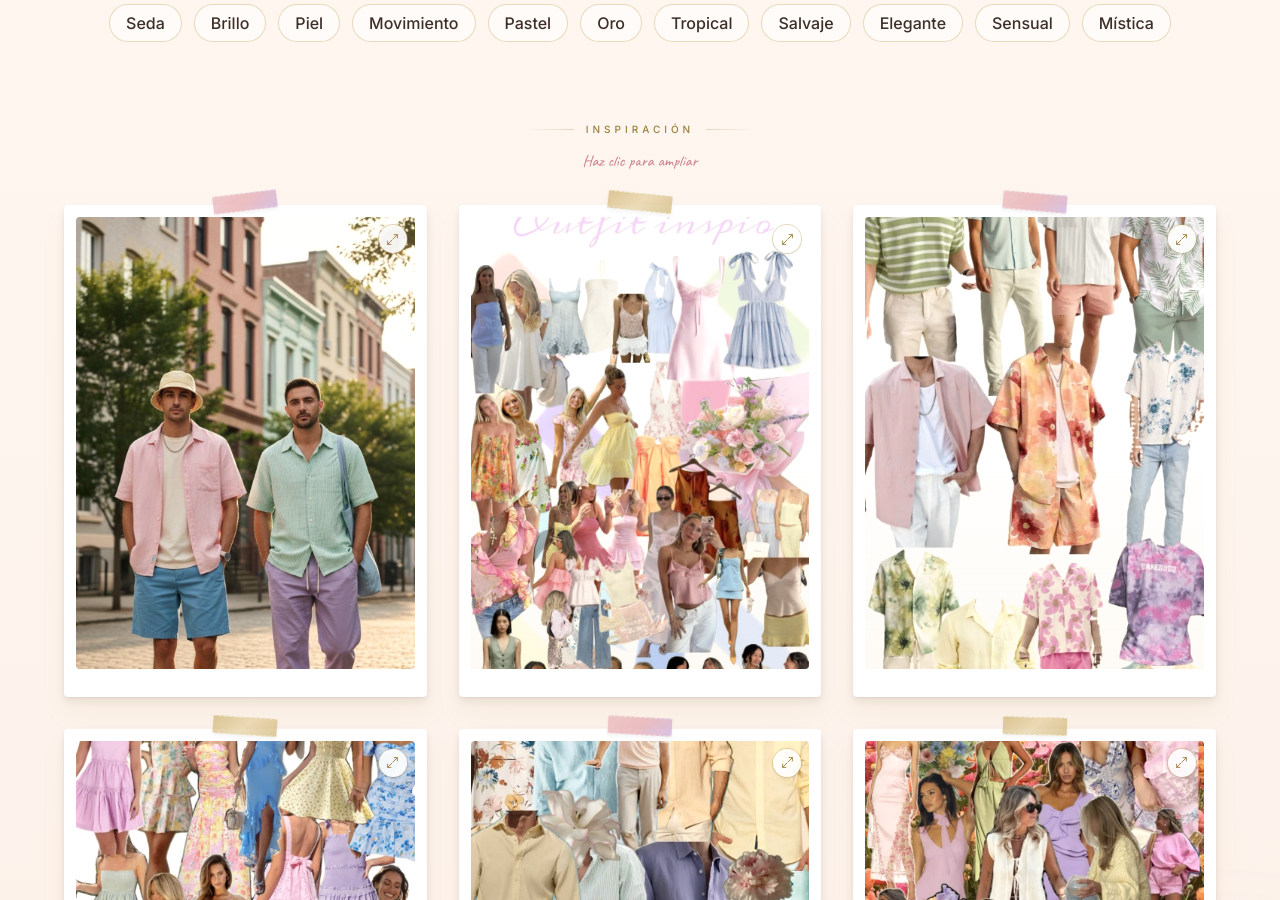
Test: Chapter6SummerPastel › navigates to the next look when the next arrow is clicked
This screenshot has width=1280, height=900.
(page scrolled)
Click the button named "open look 1 in full size": x=245, y=451 [64,205,427,697]
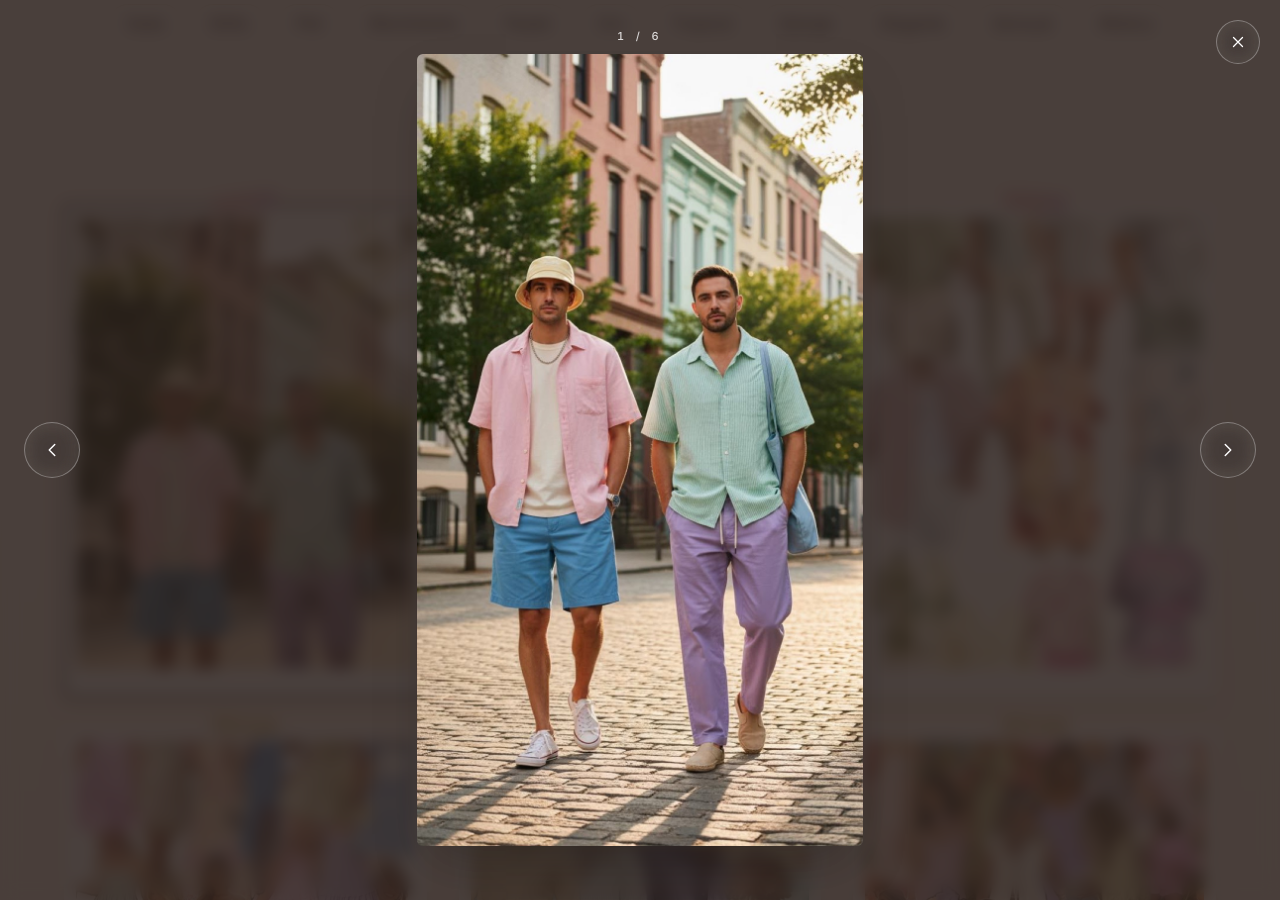
Result: the picture with alt text "Look 1 fullscreen" is shown at [417,54,863,846]
Click the button named "next look": x=1228, y=450 [1200,422,1256,478]
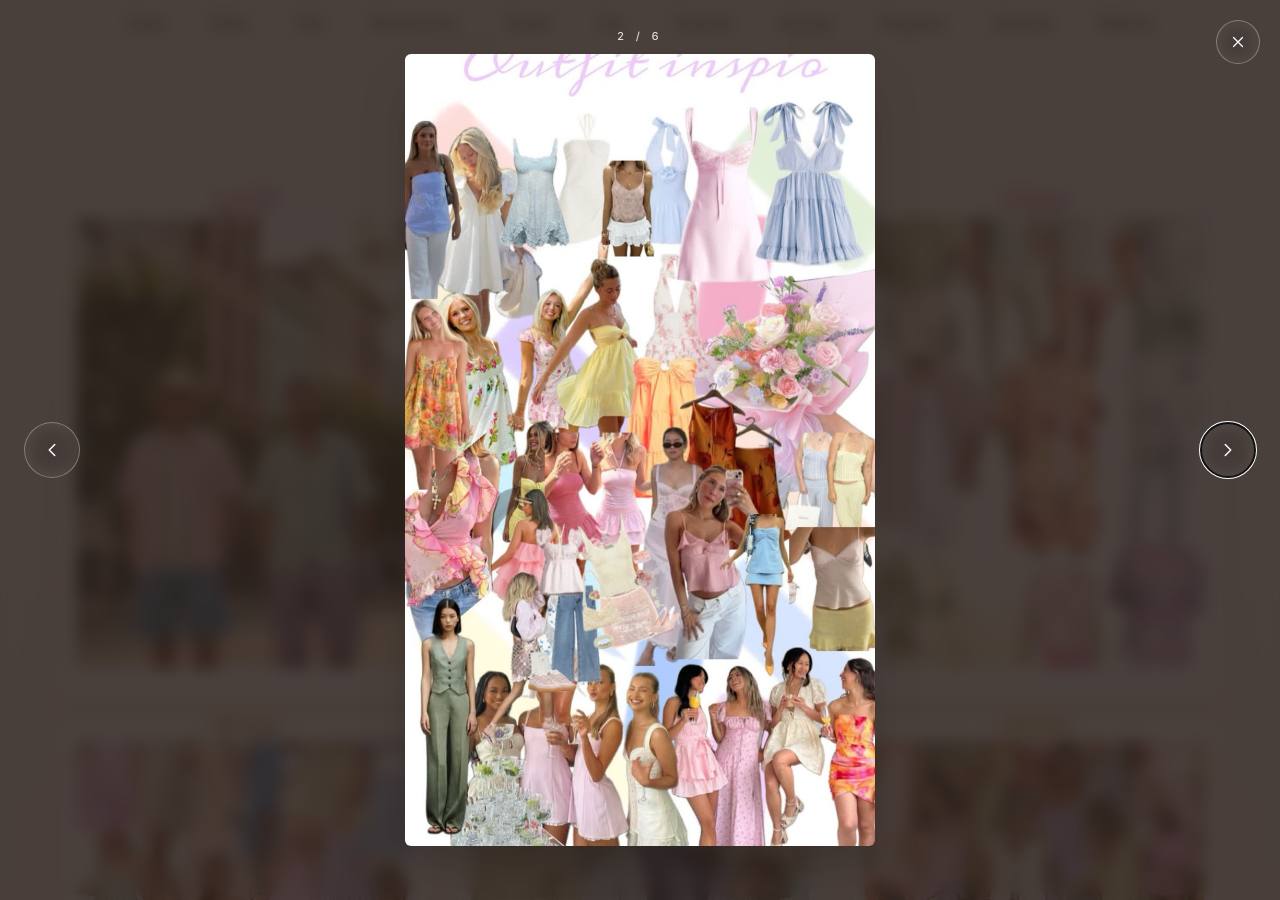
Result: the picture with alt text "Look 2 fullscreen" is shown at [405,54,875,846]
